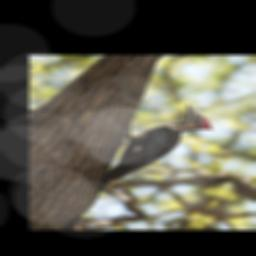Woodpecker: (67, 93, 227, 214)
